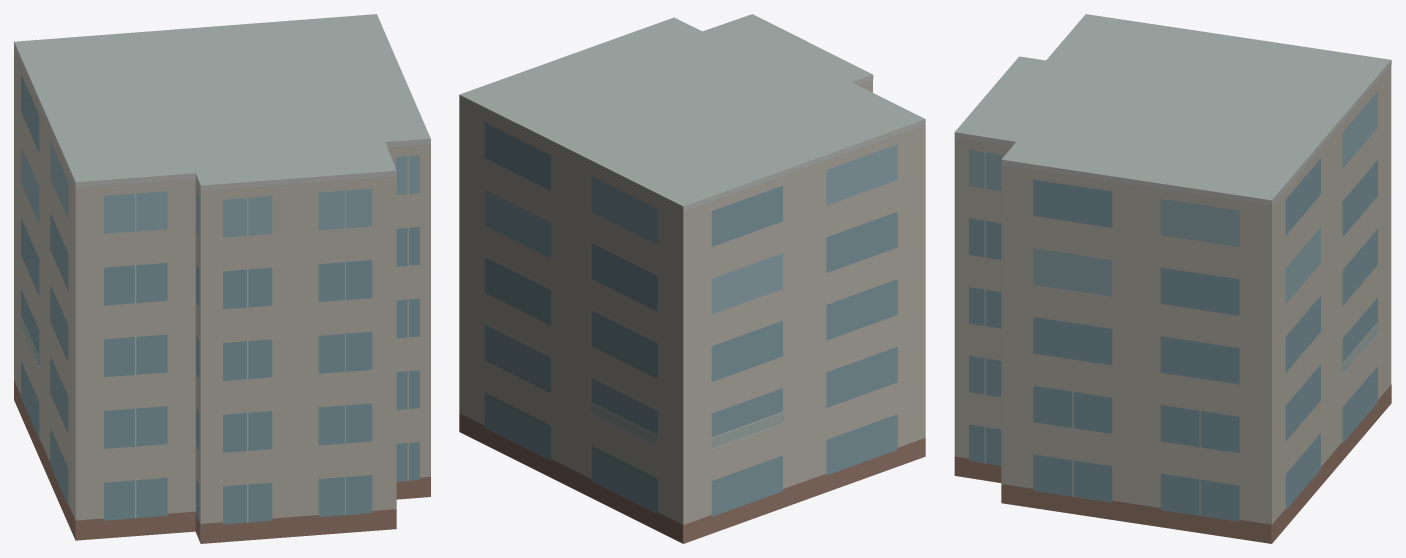
Rendered from survey-upis-32844606.glb.
The picture shows the model from 3 angles, left to right: view 1: azimuth 30°, elevation 25°; view 2: azimuth 150°, elevation 25°; view 3: azimuth 270°, elevation 25°; orthographic projection. The views are drawn at different scales.
Visible parts, largest first — view 1: survey-upis-32844606.tmp; view 2: survey-upis-32844606.tmp; view 3: survey-upis-32844606.tmp.
Boxes of the visible parts, x1=… form: survey-upis-32844606.tmp: x1=14, y1=14, x2=430, y2=543; survey-upis-32844606.tmp: x1=459, y1=14, x2=925, y2=543; survey-upis-32844606.tmp: x1=954, y1=14, x2=1391, y2=543.
Bounding box in the file's own units: 18.27 × 15.7 × 18.1.
